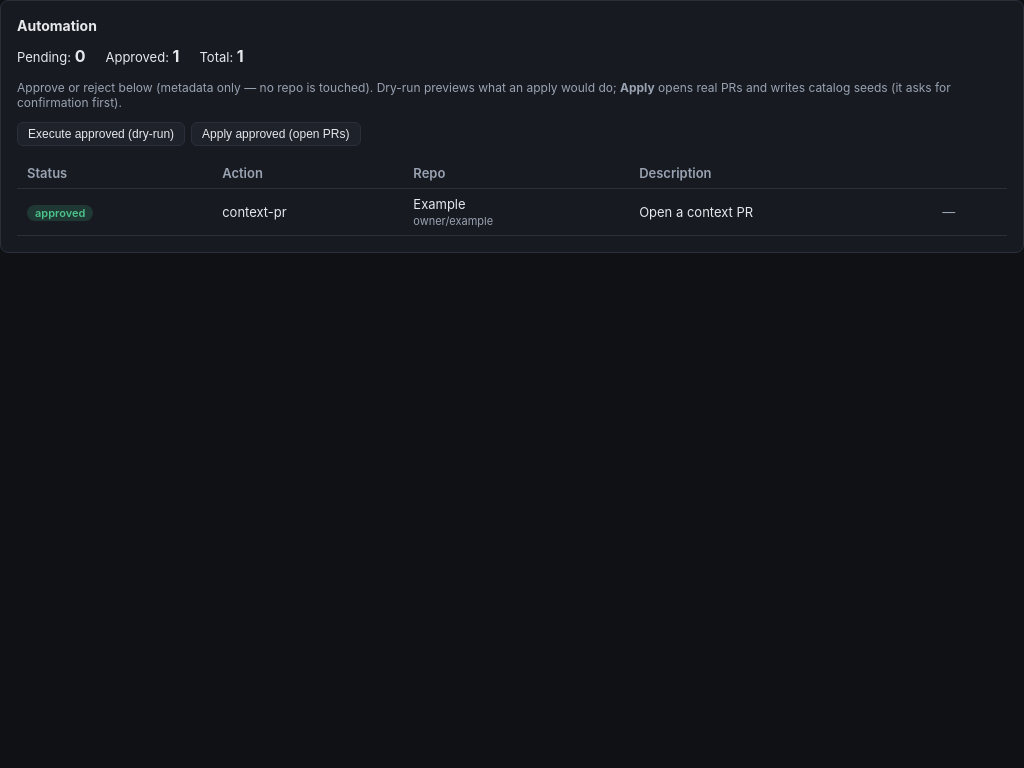
Scenario: Automation — apply confirmation gate › opening the confirm modal does not execute anything yet
The image size is (1024, 768).
Click the button "Apply approved (open PRs)".
click(276, 134)  # box [191, 122, 360, 146]
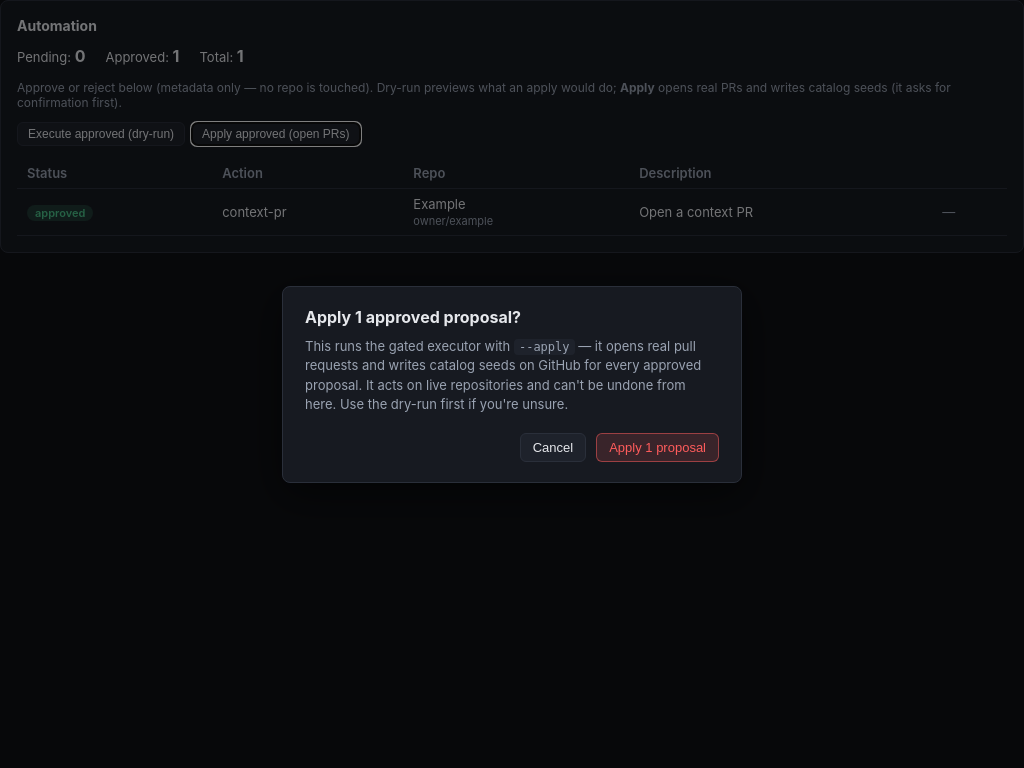
Expected: the dialog is shown, [282, 286, 742, 482]
Expected: the dialog shows "--apply", [519, 340, 570, 354]
Expected: the dialog shows "pull request", [305, 338, 701, 412]
